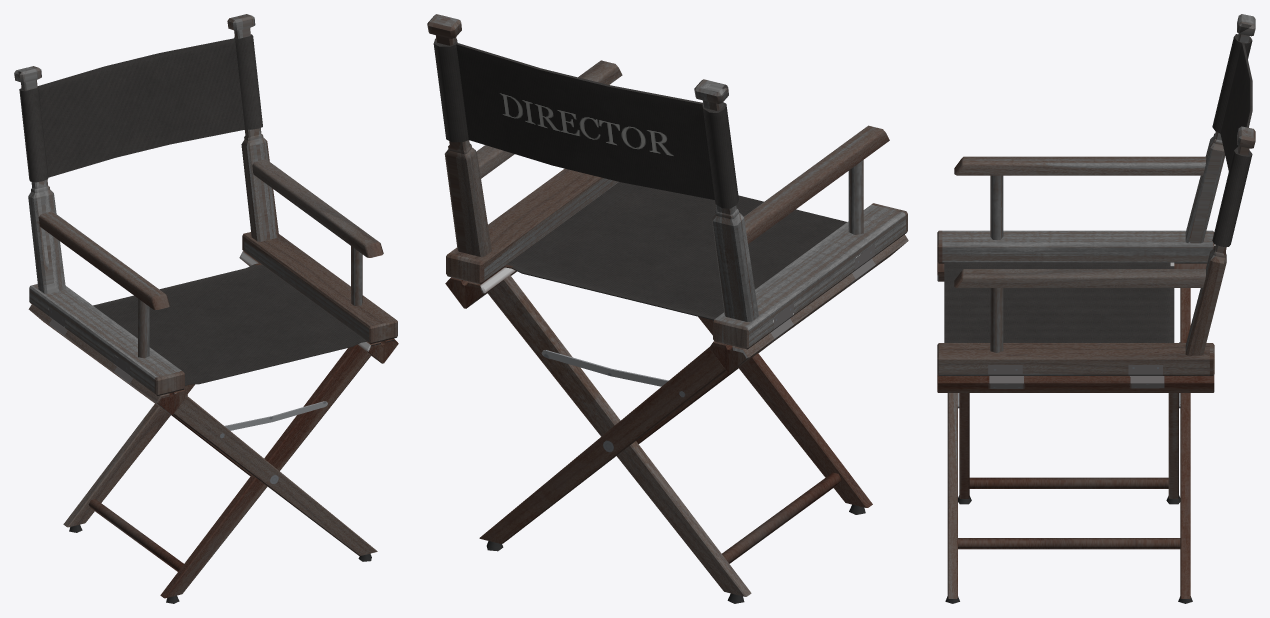
File: Misc_DirectorsChair.fbx
The picture shows the model from 3 angles, left to right: view 1: azimuth 30°, elevation 25°; view 2: azimuth 150°, elevation 25°; view 3: azimuth 270°, elevation 25°; orthographic projection. The views are drawn at different scales.
Parts seen in each view (by area): view 1: DirectorsChair; view 2: DirectorsChair; view 3: DirectorsChair.
Part boxes in pixels (bbox=[...]): DirectorsChair: bbox=[14, 14, 398, 603]; DirectorsChair: bbox=[427, 14, 908, 603]; DirectorsChair: bbox=[937, 14, 1255, 603].
Size of the model in its own units: 26 by 45.11 by 27.36.
